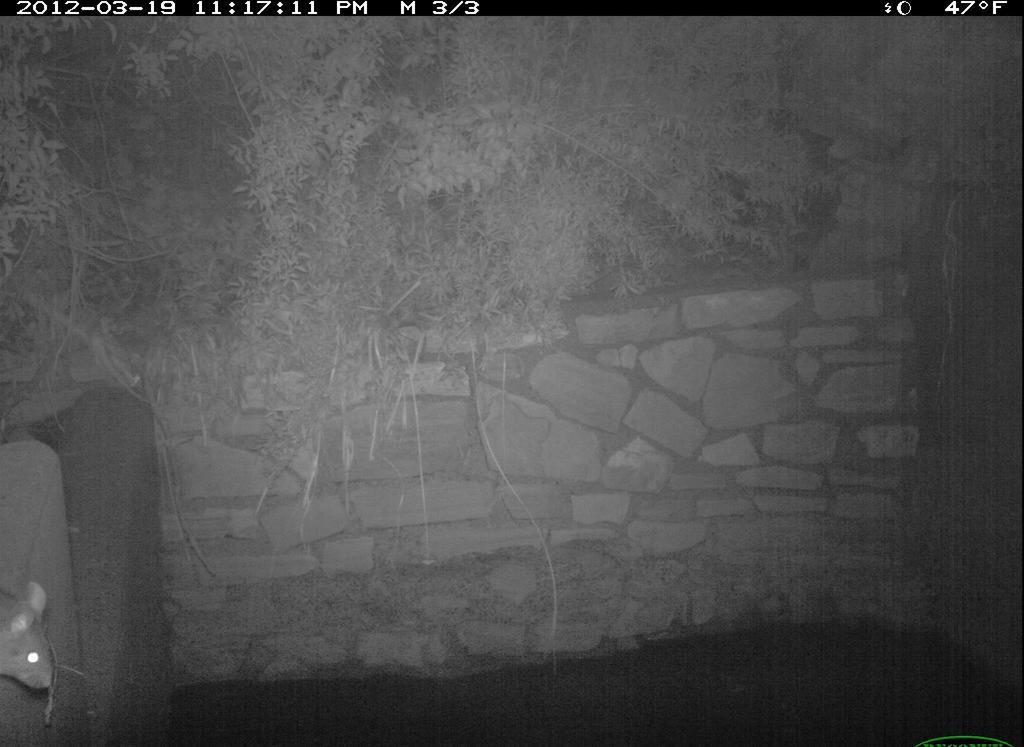rodent: (2, 569, 68, 713)
